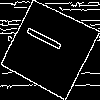I: (24, 23, 72, 57)
